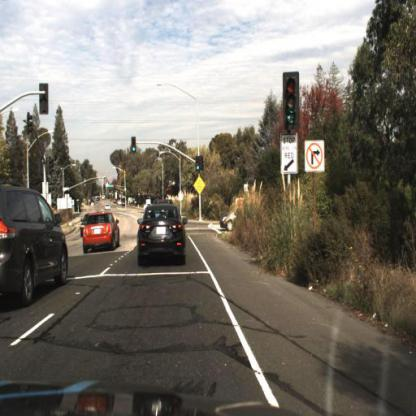car: (1, 181, 71, 323), (133, 189, 191, 288), (76, 206, 127, 263), (75, 212, 93, 241)
trafficLight-Green: (274, 60, 305, 154), (127, 129, 139, 158), (193, 148, 204, 177)
